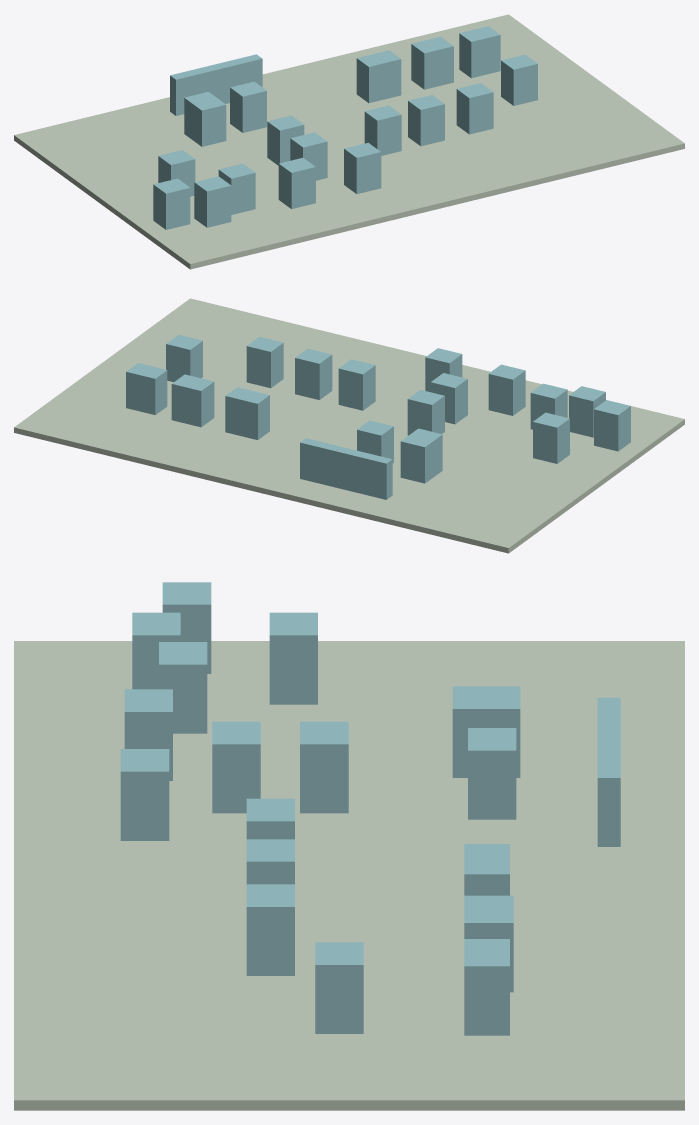
The model's file is samplefloor.gltf.
3 views of the same model, one above another, from view 1: azimuth 30°, elevation 25°; view 2: azimuth 150°, elevation 25°; view 3: azimuth 270°, elevation 25° (orthographic). The views are drawn at different scales.
Parts seen in each view (by area): view 1: Mesh_Mesh_head_geo.001_lambert2SG.001; view 2: Mesh_Mesh_head_geo.001_lambert2SG.001; view 3: Mesh_Mesh_head_geo.001_lambert2SG.001.
Boxes of the visible parts, box(x1,y1,x2,y2) form: Mesh_Mesh_head_geo.001_lambert2SG.001: box(14, 14, 684, 269); Mesh_Mesh_head_geo.001_lambert2SG.001: box(14, 298, 684, 553); Mesh_Mesh_head_geo.001_lambert2SG.001: box(14, 582, 684, 1110).
Size of the model in its own units: 285 by 24 by 176.
